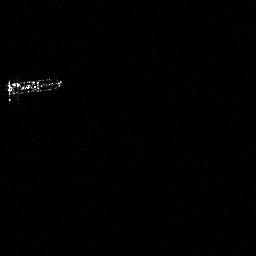ship: (2, 73, 64, 104)
